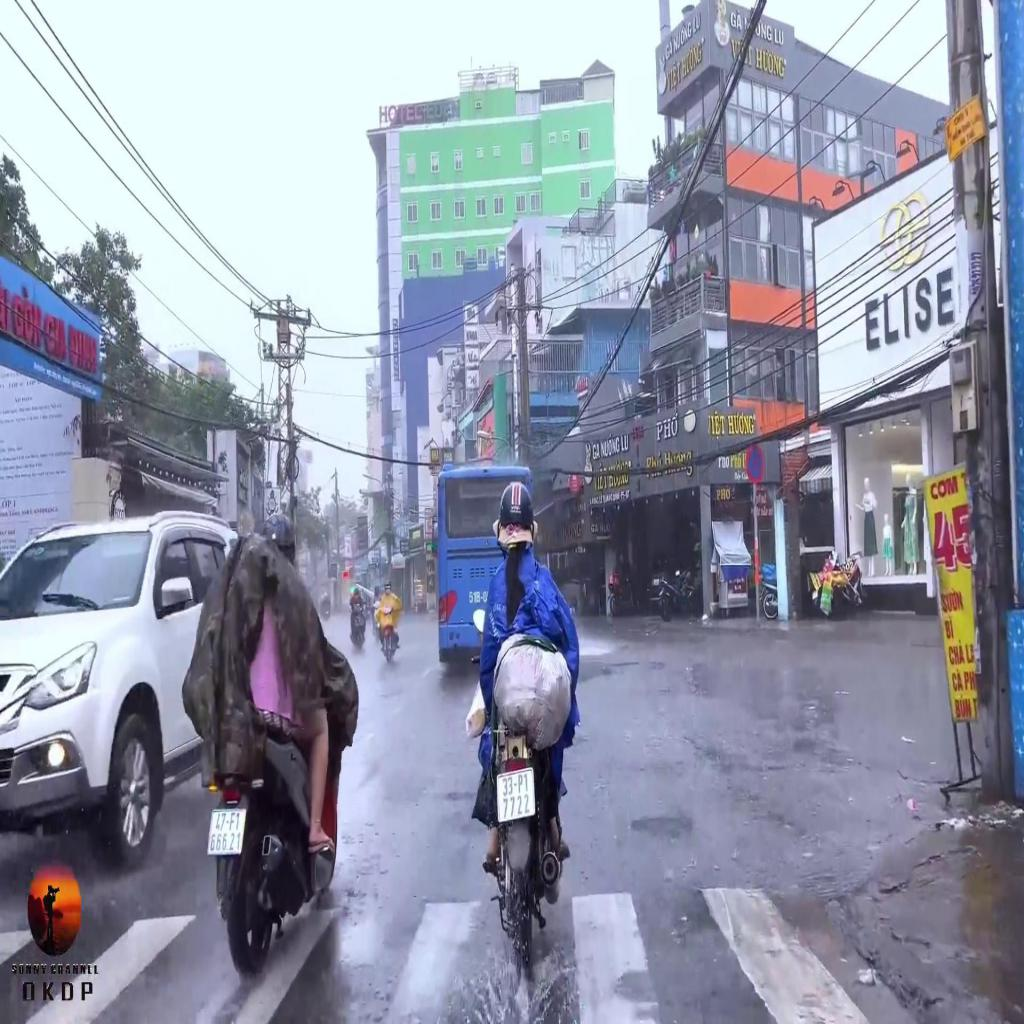cam_dung_xe_va_do_xe: (746, 442, 765, 482)
